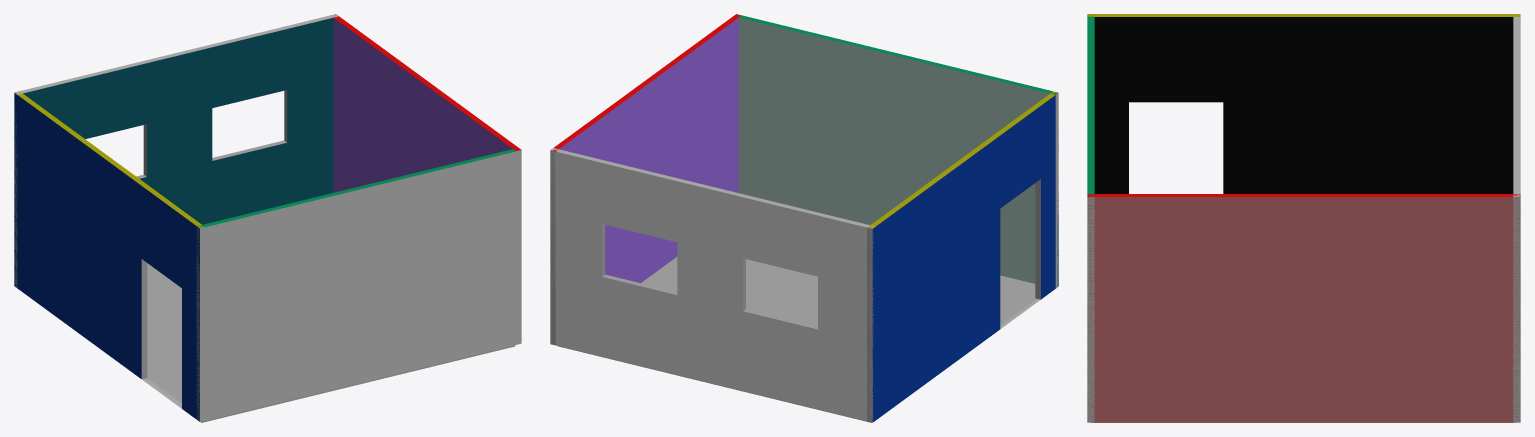
Rendered from Habitaculo (2).fbx.
The picture shows the model from 3 angles, left to right: view 1: azimuth 30°, elevation 25°; view 2: azimuth 150°, elevation 25°; view 3: azimuth 270°, elevation 25°; orthographic projection. The views are drawn at different scales.
Parts seen in each view (by area): view 1: Habitaculo1:pCube8, pCube4; view 2: Habitaculo1:pCube8, pCube4; view 3: Habitaculo1:pCube8, pCube4.
Boxes of the visible parts, <box> form: Habitaculo1:pCube8: <box>14,14,521,421</box>; pCube4: <box>147,263,515,422</box>; Habitaculo1:pCube8: <box>550,14,1058,422</box>; pCube4: <box>558,257,1036,422</box>; Habitaculo1:pCube8: <box>1087,14,1520,422</box>; pCube4: <box>1091,422,1514,422</box>.
Bounding box in the file's own units: 8 × 4.66 × 8.
